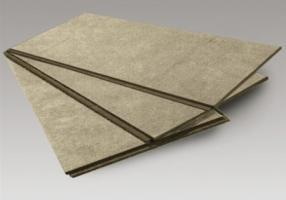paper: (5, 14, 282, 176)
